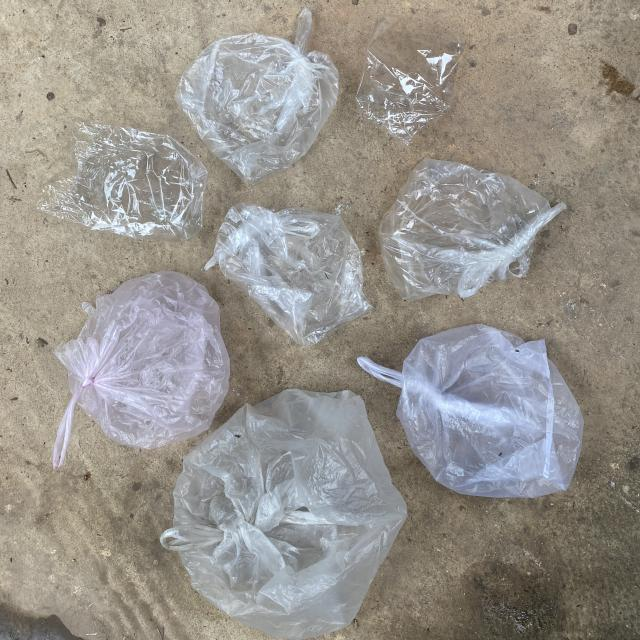Single-layer Plastic: (161, 390, 406, 639), (358, 324, 584, 498), (52, 271, 230, 469), (175, 9, 339, 184), (379, 159, 565, 301), (205, 204, 371, 346), (38, 121, 208, 241), (356, 16, 462, 149)
